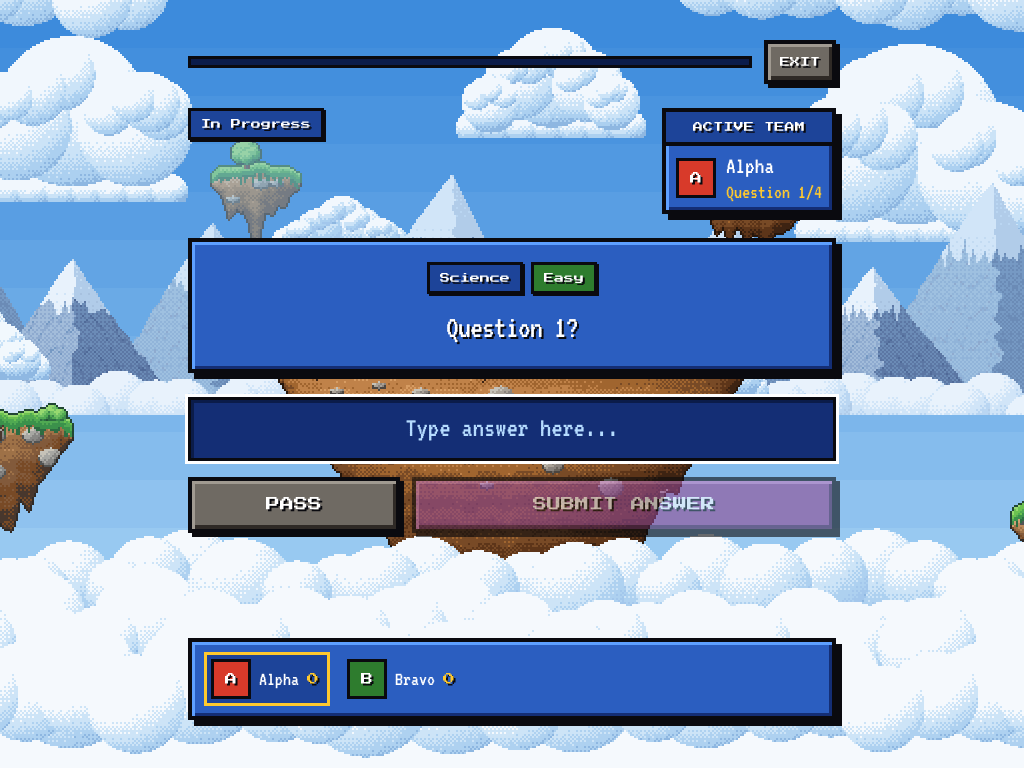
Test: Pixel solo game › ends the game early from the Quit dialog and shows final scores
This screenshot has width=1024, height=768.
Click the button with aria-label "Exit game": (800, 62) [764,40,836,84]
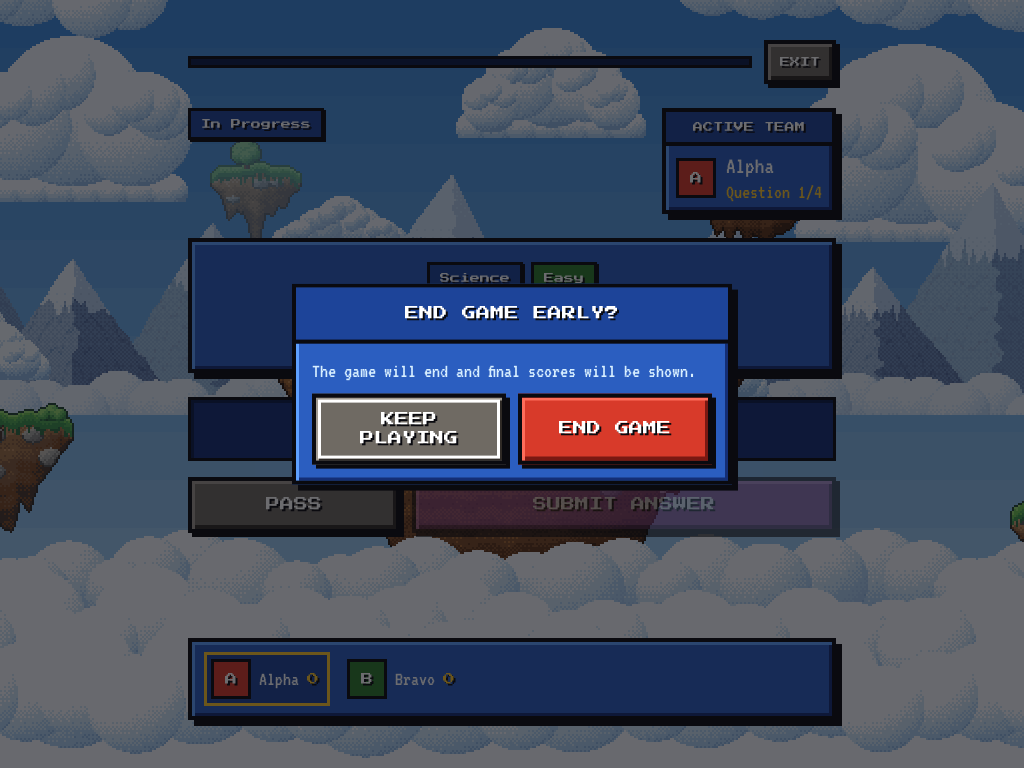
Check: the dialog "End Game Early?" is shown, box [292,284,732,484]
Click the button with test id "button-confirm-quit": (615, 429) [518,393,712,464]
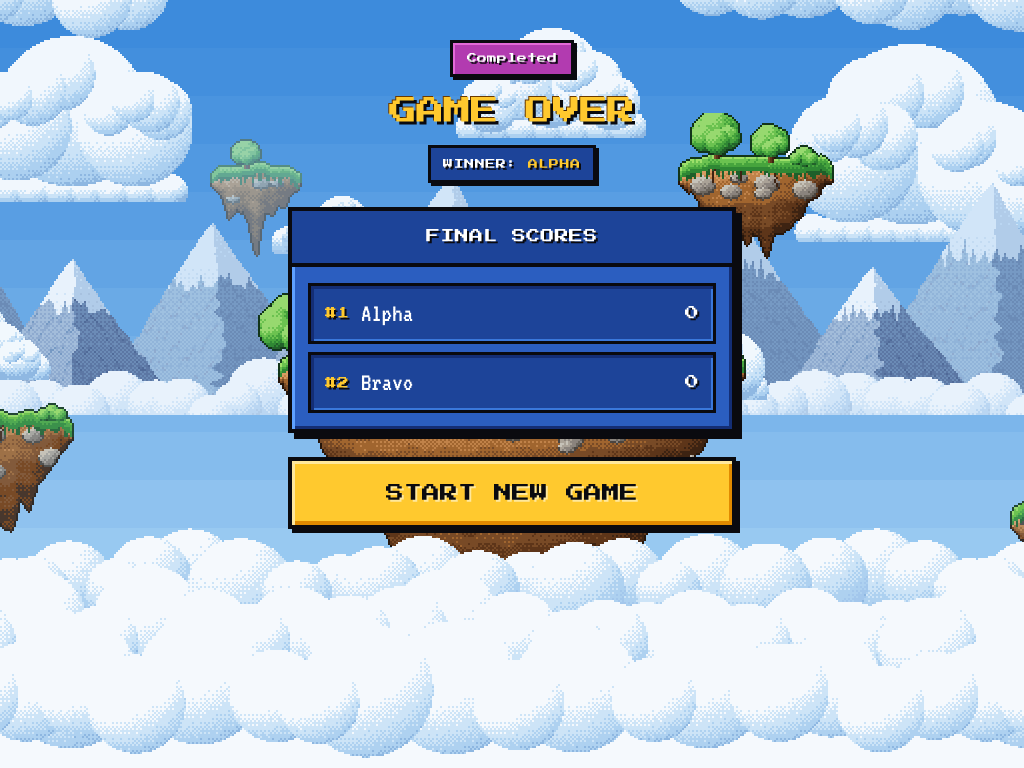
Check: the heading "Game Over" is shown, box [389,93,635,129]
Check: the heading "Final Scores" is shown, box [292,211,732,267]
Check: the button "Start New Game" is shown, box [288,457,736,529]
